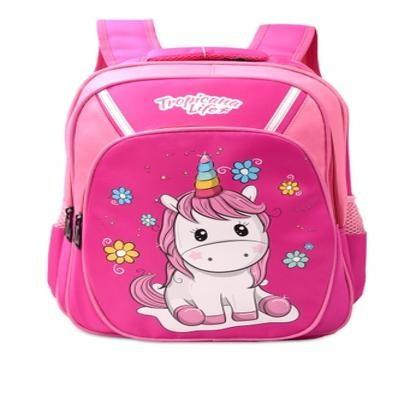not trash: (46, 21, 369, 345)
